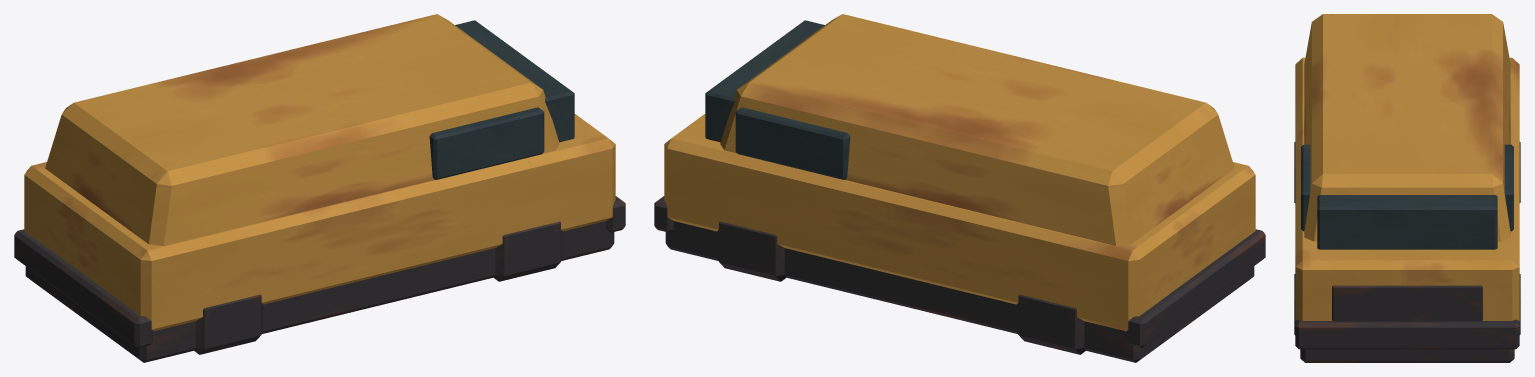
Rendered from car-van.glb.
3 renders of one model, left to right at view 1: azimuth 30°, elevation 25°; view 2: azimuth 150°, elevation 25°; view 3: azimuth 270°, elevation 25°, orthographic. The views are drawn at different scales.
Parts seen in each view (by area): view 1: car_van; view 2: car_van; view 3: car_van.
Part boxes in pixels (x1,y1,x2,y2): car_van: (14, 14, 625, 362); car_van: (654, 14, 1265, 362); car_van: (1294, 14, 1520, 362).
Size of the model in its own units: 4.2 by 1.48 by 1.86.
1 material, 1 textured.
